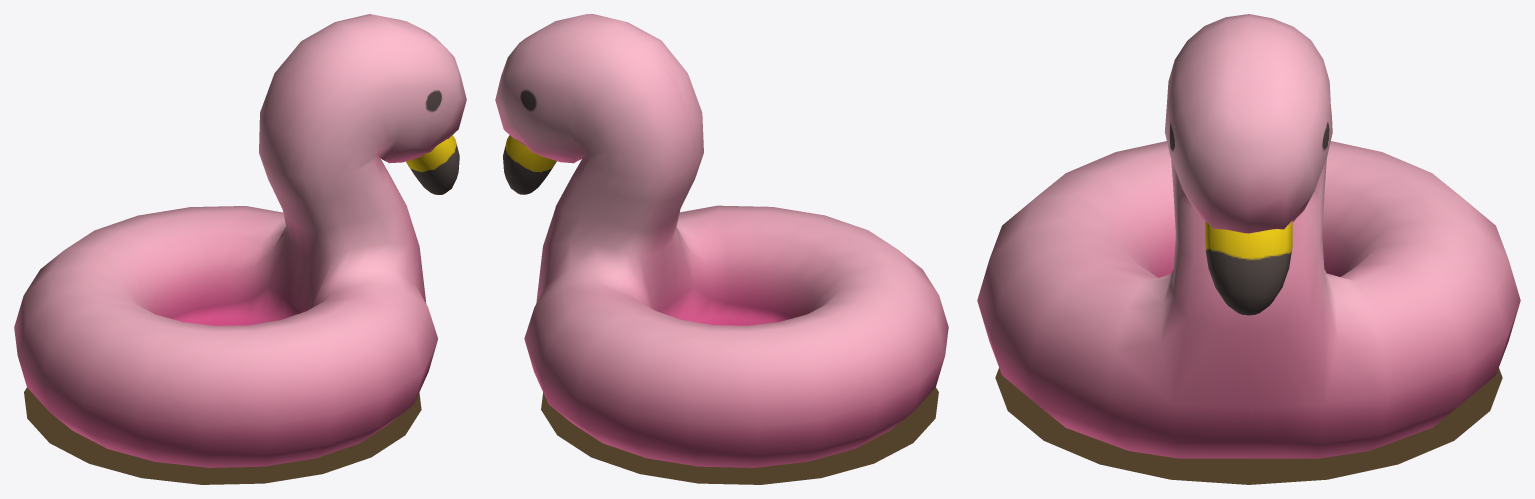
The model's file is Flamingo01.fbx.
The picture shows the model from 3 angles, left to right: view 1: azimuth 30°, elevation 25°; view 2: azimuth 150°, elevation 25°; view 3: azimuth 270°, elevation 25°; orthographic projection. The views are drawn at different scales.
Visible parts, largest first — view 1: Flamingo01; view 2: Flamingo01; view 3: Flamingo01.
Part boxes in pixels (bbox=[...]): Flamingo01: bbox=[14, 14, 466, 484]; Flamingo01: bbox=[495, 14, 948, 484]; Flamingo01: bbox=[977, 14, 1520, 484].
Bounding box in the file's own units: 193 × 153 × 171.
